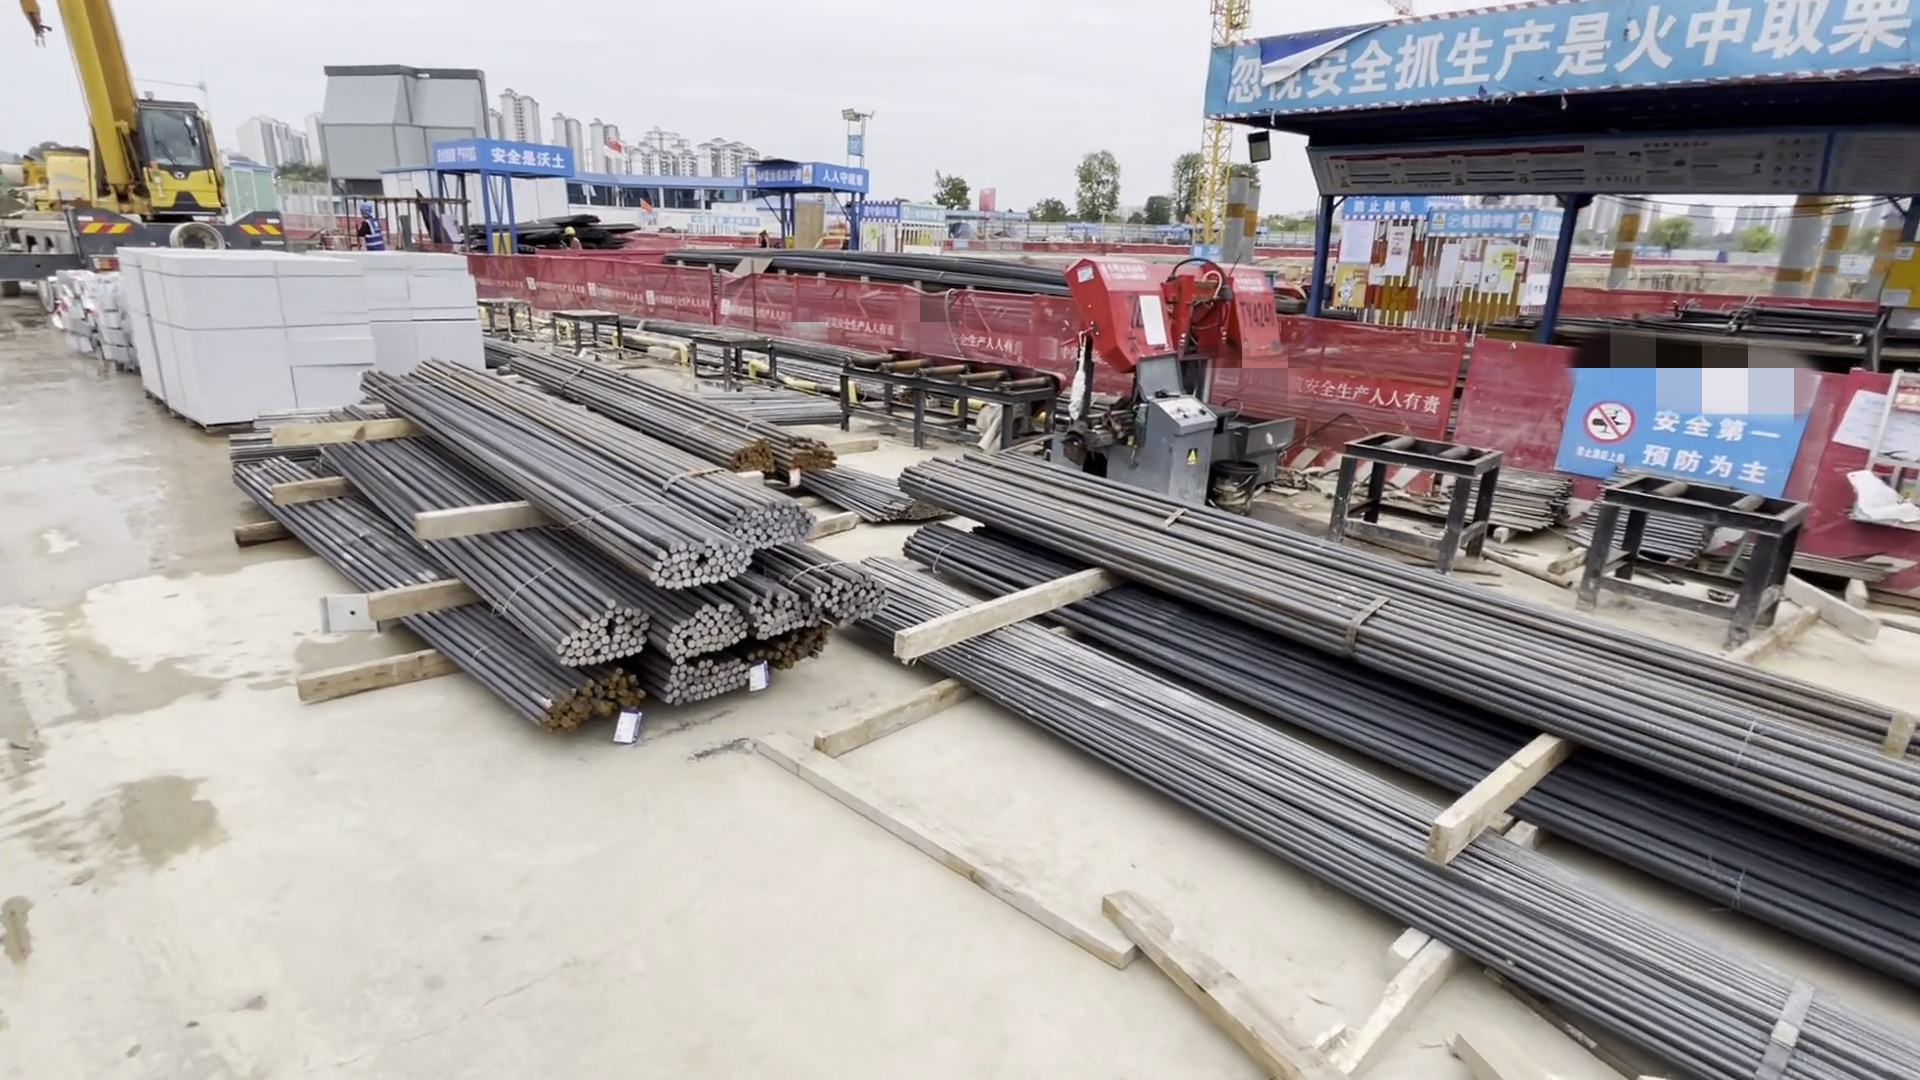brick: (119, 235, 491, 425)
fence: (491, 229, 1093, 422)
rebar: (882, 442, 1920, 1065), (229, 351, 886, 729)
slogan: (1191, 15, 1920, 137), (1538, 338, 1804, 512), (1336, 190, 1538, 240), (745, 152, 876, 204), (430, 135, 567, 181)
